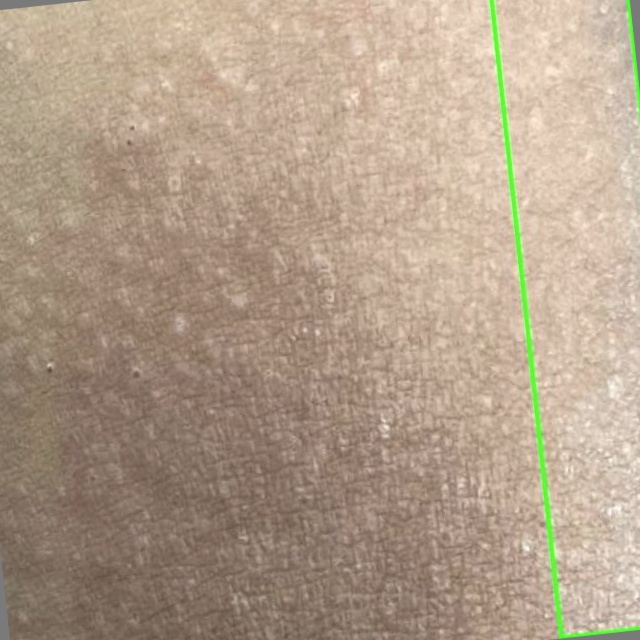Contact Dermatitis: (491, 0, 639, 637)
